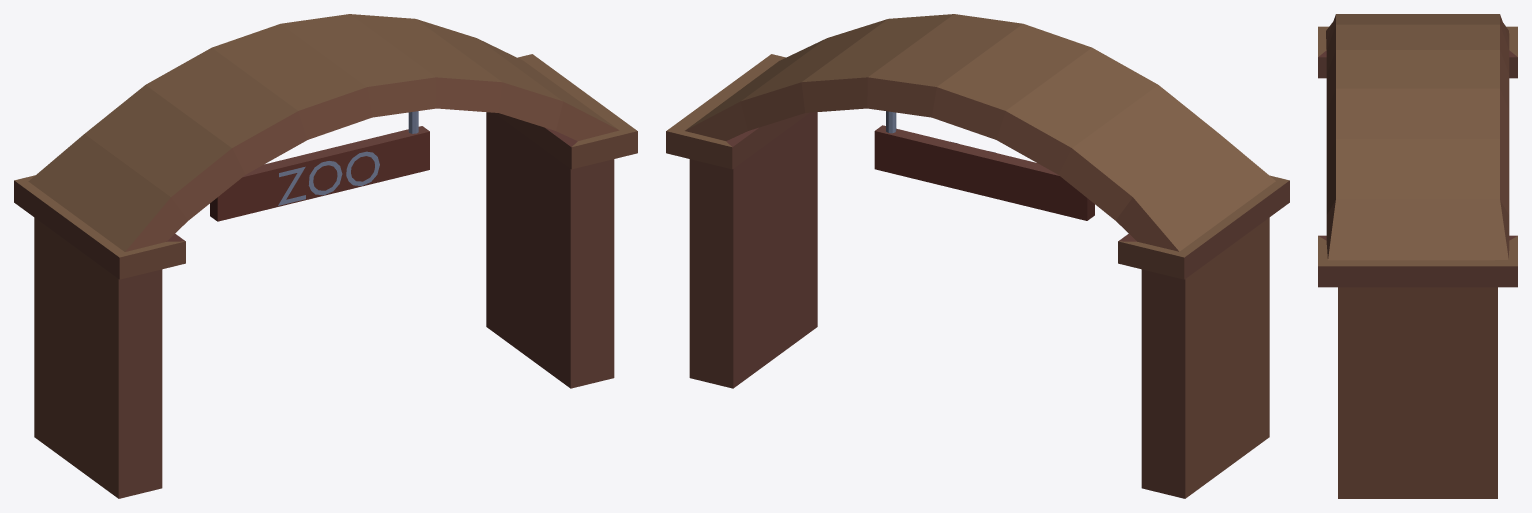
File: Gapura.fbx
3 renders of one model, left to right at view 1: azimuth 30°, elevation 25°; view 2: azimuth 150°, elevation 25°; view 3: azimuth 270°, elevation 25°, orthographic. The views are drawn at different scales.
Parts seen in each view (by area): view 1: Gapura.001; view 2: Gapura.001; view 3: Gapura.001.
Boxes of the visible parts, bbox=[...] form: Gapura.001: bbox=[14, 14, 637, 498]; Gapura.001: bbox=[666, 14, 1289, 498]; Gapura.001: bbox=[1318, 14, 1517, 498].
Bounding box in the file's own units: 1372 × 891 × 483.
